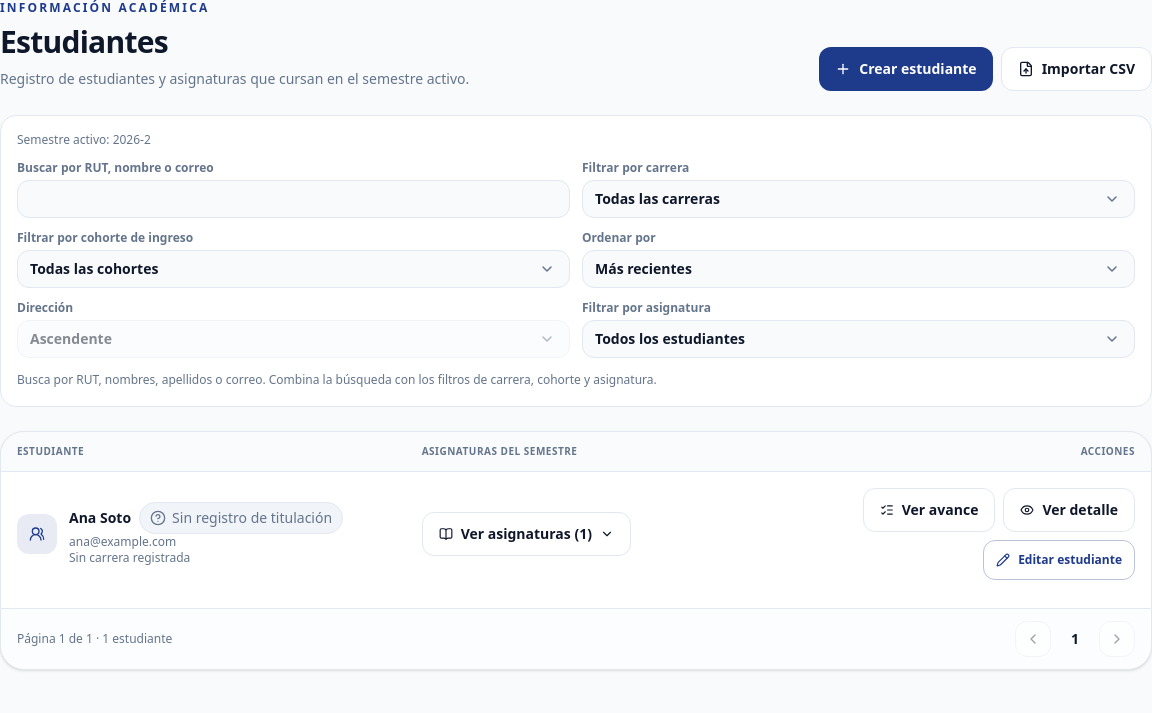
Test: Estudiantes › expande las asignaturas en la fila y permite volver a contraerlas
The image size is (1152, 713).
Click the button with aria-label "Ver asignaturas de Ana Soto". click: (526, 534)
box: [422,512,631,556]
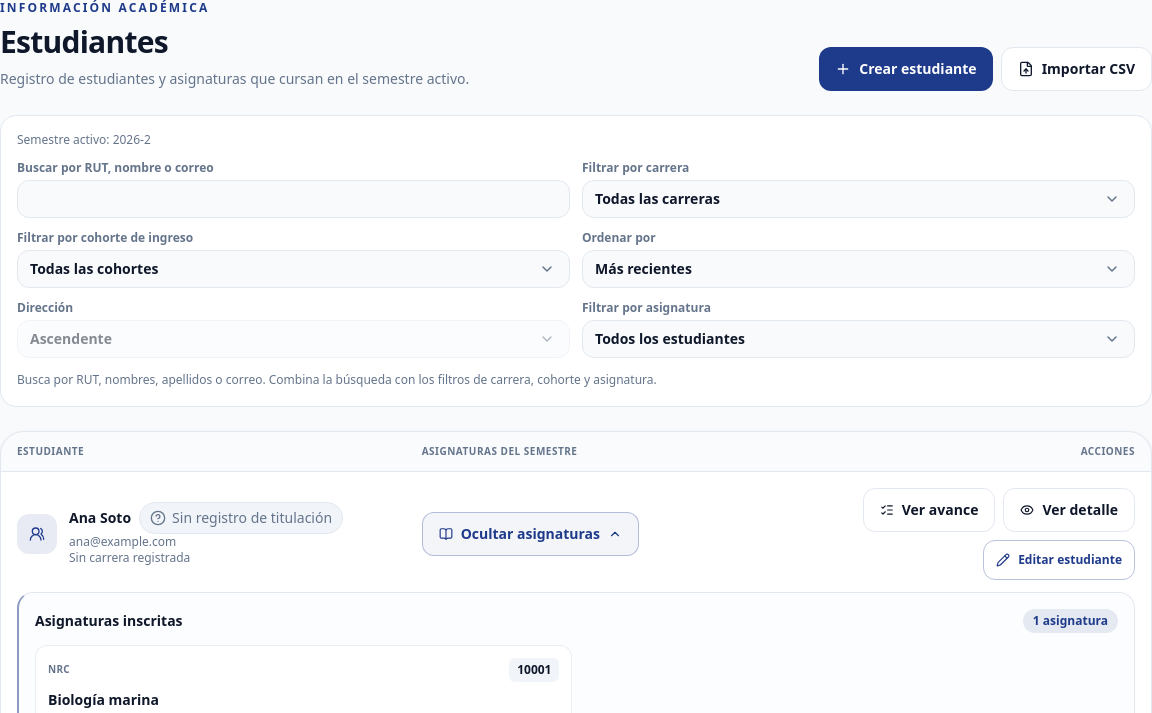
Expected: the heading "Asignaturas inscritas" is shown, [35,611,182,631]
Expected: the heading "Biología marina" is shown, [48,690,159,709]
Expected: the button named "Ver asignaturas de Ana Soto" is expanded
Click the button named "Ver asignaturas de Ana Soto". click: (530, 534)
box: [422,512,639,556]
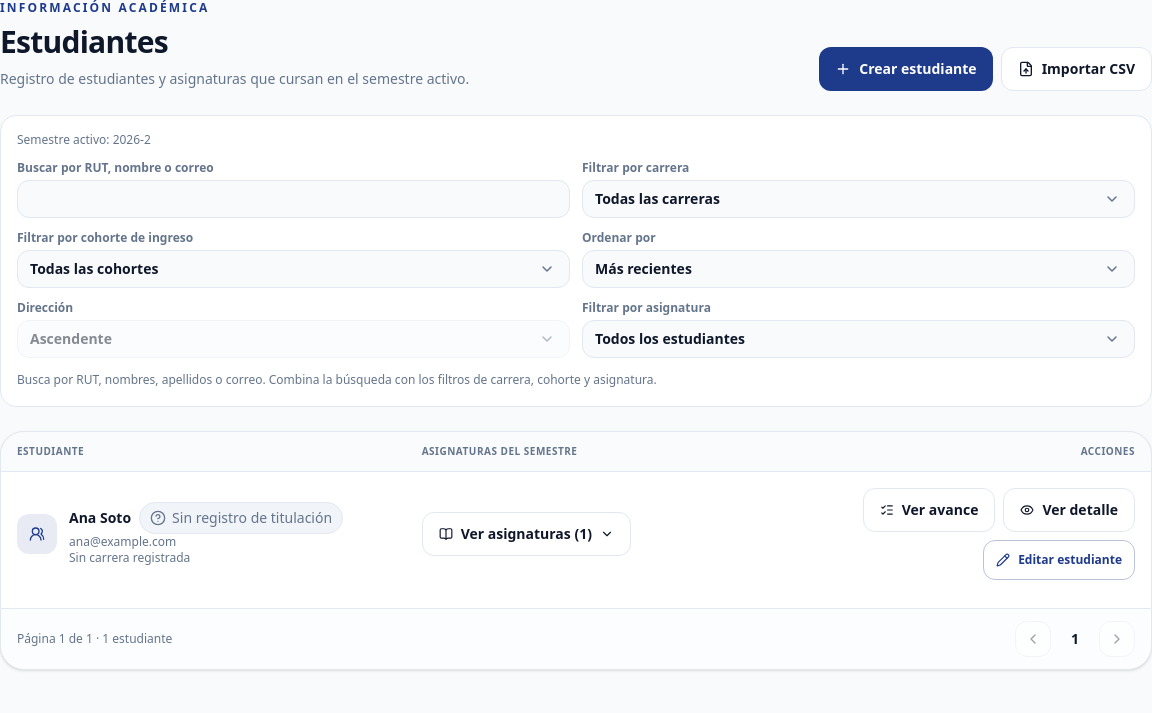
Expected: the button with aria-label "Ver asignaturas de Ana Soto" is collapsed, [422,512,631,556]
Expected: the heading "Biología marina" is gone
